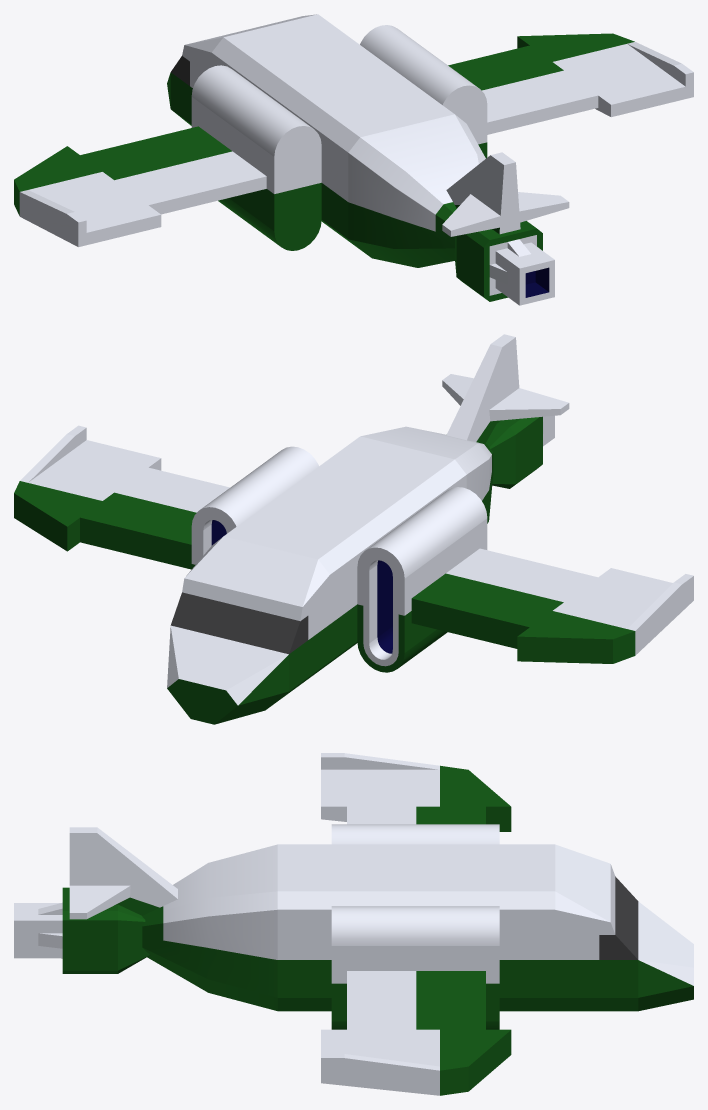
Rendered from TinyPlane.glb.
The picture shows the model from 3 angles, top to bottom: view 1: azimuth 30°, elevation 25°; view 2: azimuth 150°, elevation 25°; view 3: azimuth 270°, elevation 25°; orthographic projection.
Parts seen in each view (by area): view 1: engine_capsule (×2), hull_body (×2), wing_slantEdgeWinglet (×2), wing (×2), hull_frontNose, engine_detailed, rudder_sides, hull_cockpitNoseLow; view 2: hull_cockpitNoseLow, wing_slantEdgeWinglet (×2), wing (×2), hull_body (×2), engine_capsule (×2), rudder_sides, engine_detailed, hull_frontNose; view 3: hull_body (×2), wing_slantEdgeWinglet (×2), hull_cockpitNoseLow, engine_capsule (×2), hull_frontNose, wing (×2), engine_detailed, rudder_sides.
Part boxes in pixels (box(x1,y1,x2,y2)): engine_capsule (×2): box(191, 25, 487, 250); hull_body (×2): box(211, 14, 454, 256); wing_slantEdgeWinglet (×2): box(14, 33, 693, 247); wing (×2): box(80, 45, 598, 214); hull_frontNose: box(348, 114, 485, 267); engine_detailed: box(454, 221, 554, 305); rudder_sides: box(442, 152, 569, 236); hull_cockpitNoseLow: box(167, 14, 316, 125); hull_cockpitNoseLow: box(167, 536, 329, 724); wing_slantEdgeWinglet (×2): box(14, 425, 693, 663); wing (×2): box(80, 467, 597, 648); hull_body (×2): box(224, 436, 466, 677); engine_capsule (×2): box(191, 446, 487, 672); rudder_sides: box(442, 334, 569, 443); engine_detailed: box(485, 415, 554, 488); hull_frontNose: box(361, 426, 493, 523); hull_body (×2): box(277, 844, 555, 1011); wing_slantEdgeWinglet (×2): box(321, 753, 511, 1095); hull_cockpitNoseLow: box(555, 844, 693, 1011); engine_capsule (×2): box(331, 824, 499, 1029); hull_frontNose: box(142, 844, 277, 1010); wing (×2): box(347, 806, 485, 1029); engine_detailed: box(14, 887, 149, 973); rudder_sides: box(69, 827, 177, 919).
Bounding box in the file's own units: 5.2 × 1.3 × 4.9.
